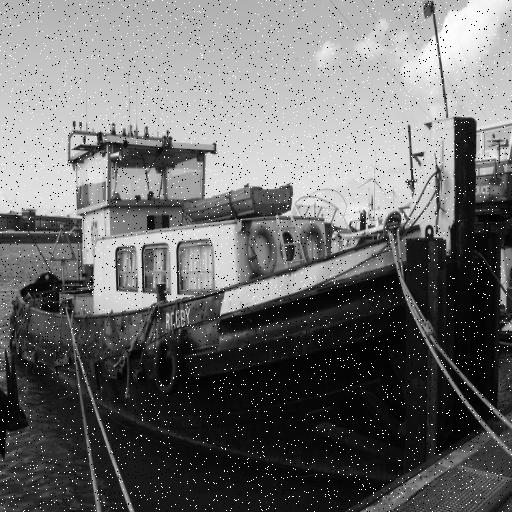tugboat: (8, 54, 512, 504)
